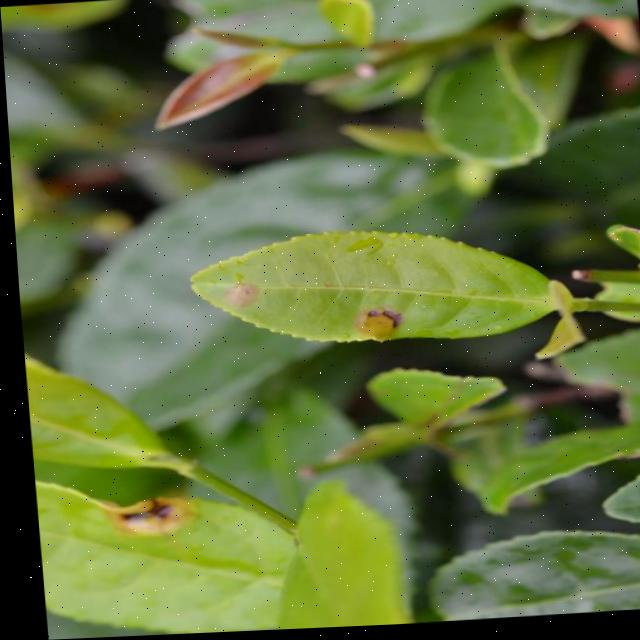Tea cake: (95, 471, 178, 539), (346, 302, 400, 349)
